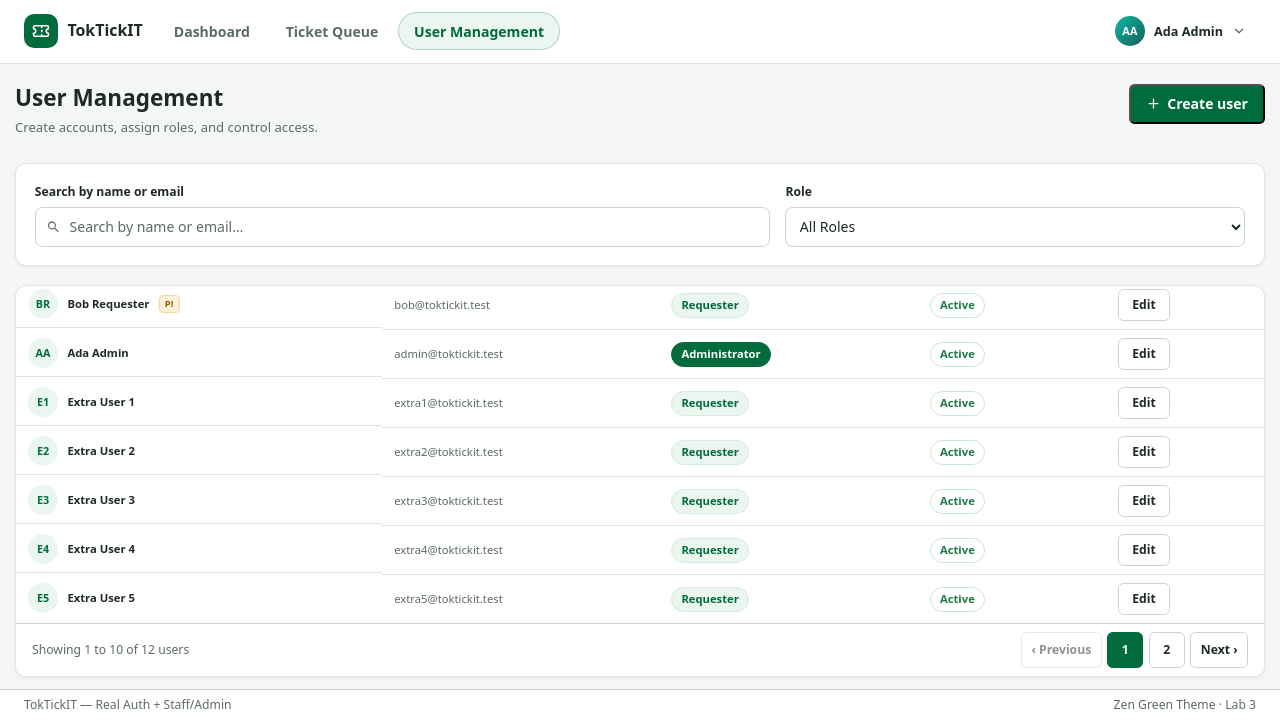
Test: T-ADM-01 (client half) — list rendering and search › paginates server-side: page param, footer navigation, and range caption
(page scrolled)
Expected: the heading "User Management" is shown, left=15, top=82, right=223, bottom=113
Expected: the text "Showing 1 to 10 of 12 users" is shown, left=32, top=641, right=189, bottom=660
My Tickets pager language: bare numbered buttons (name "2"), ‹ Previous / Next ›.
Step 1. Click the button "2" → click(1167, 650), box left=1149, top=632, right=1185, bottom=668
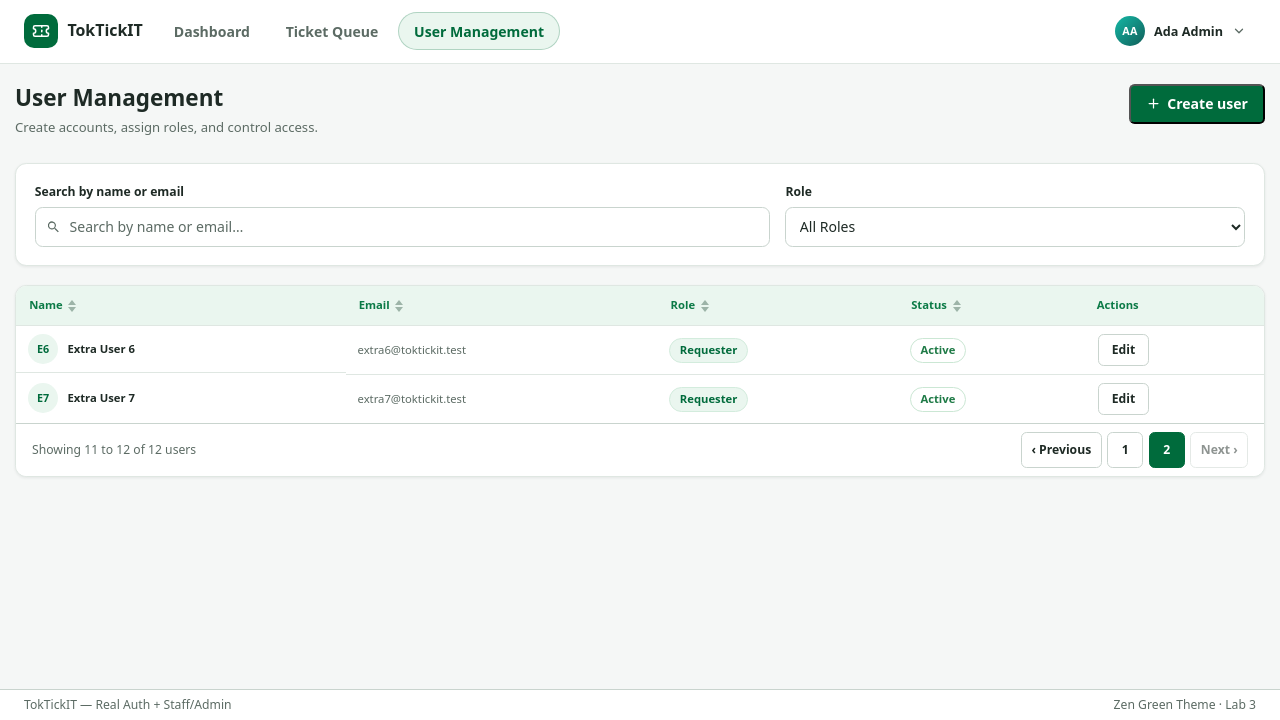
Expected: the text "Showing 11 to 12 of 12 users" is shown, left=32, top=441, right=196, bottom=460
Expected: the button "Next ›" is disabled, left=1190, top=432, right=1248, bottom=468
Expected: the button "‹ Previous" is enabled, left=1021, top=432, right=1102, bottom=468
